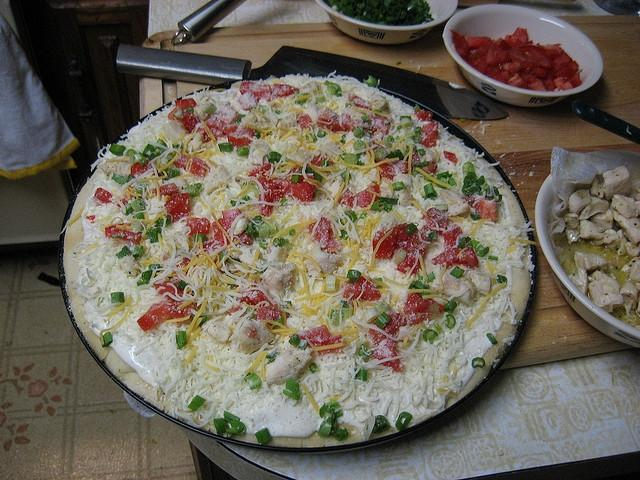tomato: (372, 222, 428, 274), (248, 162, 292, 216), (295, 325, 344, 355), (404, 294, 445, 325), (222, 208, 253, 245), (309, 217, 340, 253), (372, 339, 405, 371), (136, 303, 172, 331), (371, 312, 407, 338), (343, 276, 381, 300), (317, 107, 350, 133), (164, 194, 190, 222), (423, 208, 449, 236), (518, 46, 551, 68), (105, 225, 142, 244), (288, 175, 314, 201), (354, 184, 381, 208), (432, 247, 461, 269), (226, 126, 256, 147), (442, 220, 462, 249), (268, 82, 300, 100), (176, 111, 202, 133), (240, 81, 273, 98), (475, 195, 497, 220), (206, 115, 228, 140), (450, 30, 470, 56), (454, 247, 478, 268), (170, 300, 198, 318), (420, 122, 439, 148), (487, 42, 508, 65), (362, 116, 388, 134), (374, 159, 396, 180), (510, 52, 537, 68), (254, 304, 281, 320), (188, 216, 210, 234), (152, 280, 175, 297), (190, 156, 208, 177), (466, 37, 492, 51), (131, 160, 153, 176), (153, 183, 179, 196), (548, 66, 576, 78), (349, 93, 369, 109), (506, 72, 526, 86), (94, 188, 112, 203), (526, 80, 548, 92), (551, 56, 567, 72), (176, 98, 197, 110), (492, 70, 510, 84), (507, 40, 522, 56), (473, 59, 489, 74), (391, 160, 408, 174), (540, 78, 557, 92), (414, 110, 433, 122), (496, 38, 512, 52), (561, 80, 582, 90), (444, 150, 458, 164), (298, 114, 312, 128), (174, 156, 188, 170), (203, 239, 216, 254), (486, 65, 500, 78), (529, 67, 547, 77), (512, 28, 528, 39), (560, 52, 572, 66), (426, 161, 438, 174), (554, 76, 568, 87), (566, 60, 578, 71), (471, 54, 481, 66), (519, 40, 533, 46), (546, 50, 559, 56), (504, 35, 512, 42), (422, 166, 428, 174)
